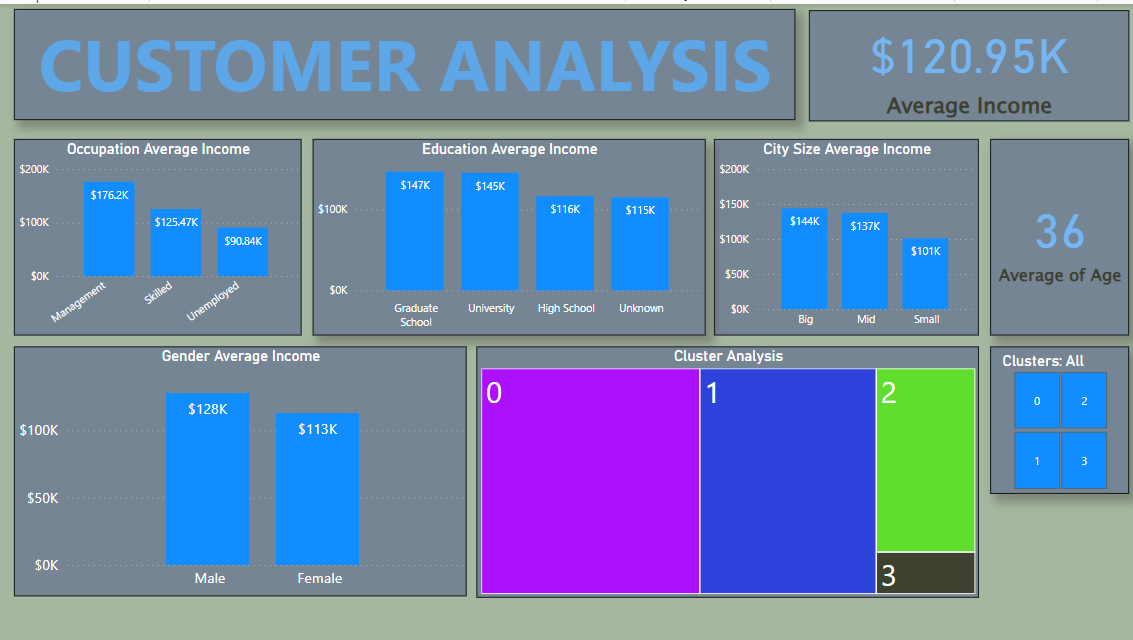

The page's visual inventory and layout, read from the dashboard file:
{"tool":"powerbi","page":{"name":"Main_visual","canvas":[1280,720],"ordinal":0},"visuals":[{"type":"columnChart","title":"City Size Average Income","fields":{"Category":["clustered.City Size"],"Y":["Avg(clustered.Income)"]},"box":[803.9,151.8,297.9,220.6],"z":0},{"type":"columnChart","title":"Education Average Income","fields":{"Category":["clustered.Education"],"Y":["Avg(clustered.Income)"]},"box":[352.7,151.8,441.3,220.6],"z":1000},{"type":"columnChart","title":"Occupation Average Income","fields":{"Category":["clustered.Occupation"],"Y":["Avg(clustered.Income)"]},"box":[16.9,151.8,323.2,220.6],"z":2000},{"type":"columnChart","title":"Gender Average Income","fields":{"Category":["clustered.Sex"],"Y":["Avg(clustered.Income)"]},"box":[16.9,385.1,508.7,281.1],"z":3000},{"type":"textbox","box":[16.9,5.6,878.4,125.1],"z":4000},{"type":"treemap","title":"Cluster Analysis","fields":{"Group":["clustered.Clusters"],"Values":["CountNonNull(clustered.Clusters)"]},"box":[536.8,385.1,565,282.5],"z":5000},{"type":"card","fields":{"Values":["Avg(clustered.Income)"]},"box":[910.7,7,359.8,125.1],"z":6000},{"type":"slicer","fields":{"Values":["clustered.Clusters"]},"box":[1114.5,385.1,156,165.8],"z":7000},{"type":"card","fields":{"Values":["Avg(clustered.Age)"]},"box":[1114.5,151.8,156,220.6],"z":8000}]}

Visuals, with their boxes in screenshot pixels (x1, y1, x2, y2), scaled from the page's 1280x720 canvas onto the 1133x640 screenshot:
"City Size Average Income" columnChart: Rect(712, 135, 975, 331)
"Education Average Income" columnChart: Rect(312, 135, 703, 331)
"Occupation Average Income" columnChart: Rect(15, 135, 301, 331)
"Gender Average Income" columnChart: Rect(15, 342, 465, 592)
textbox: Rect(15, 5, 792, 116)
"Cluster Analysis" treemap: Rect(475, 342, 975, 593)
card - Avg(clustered.Income): Rect(806, 6, 1125, 117)
slicer - clustered.Clusters: Rect(987, 342, 1125, 490)
card - Avg(clustered.Age): Rect(987, 135, 1125, 331)
